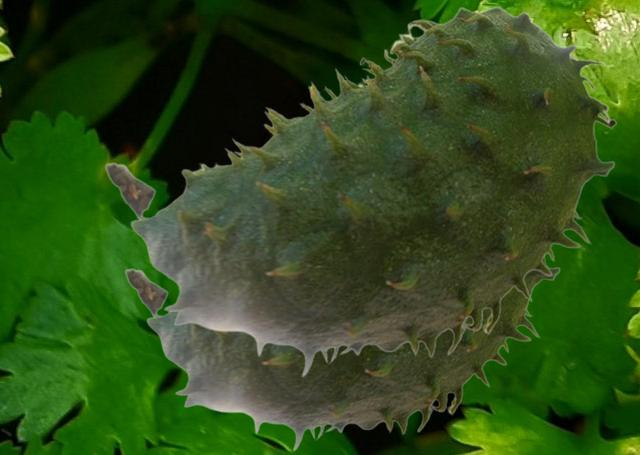guyabano: (104, 6, 616, 377), (124, 258, 560, 451)
